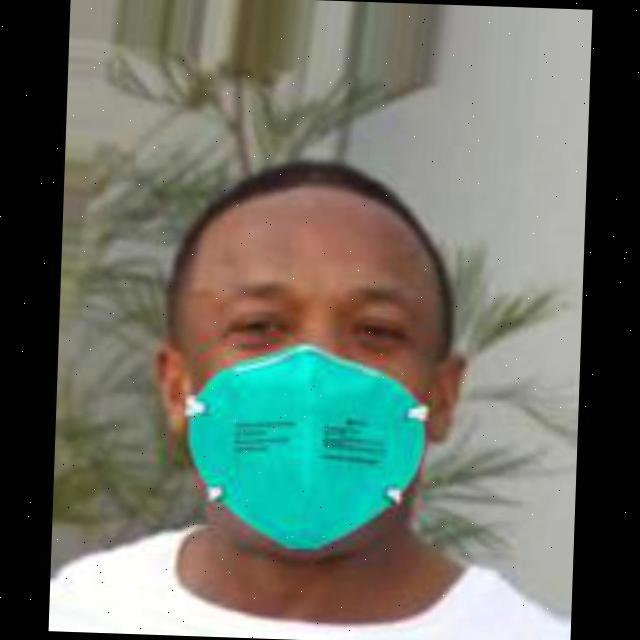suspicion: (141, 132, 501, 556)
